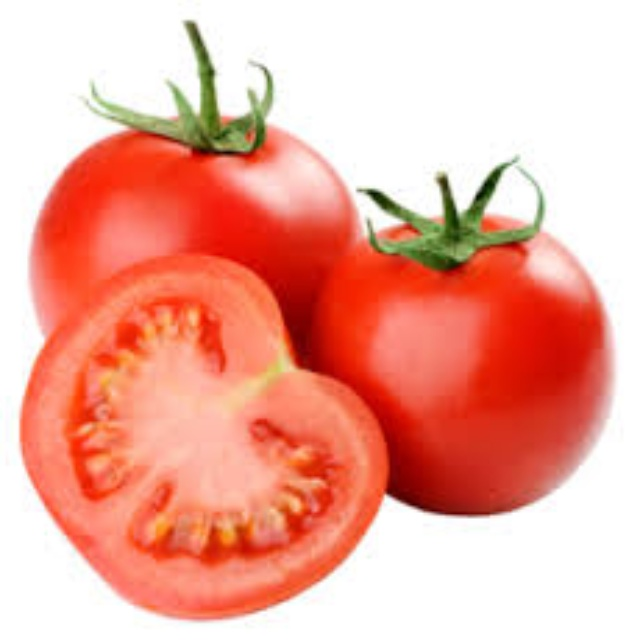tomato: (16, 266, 399, 622), (31, 111, 357, 376), (318, 209, 602, 512)
